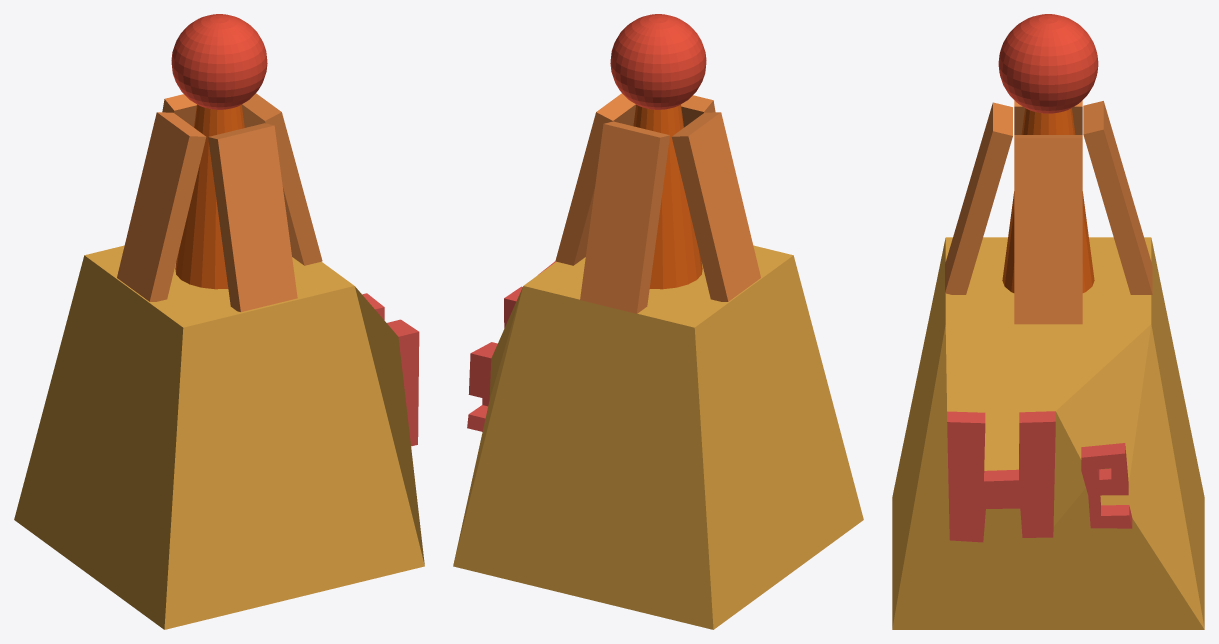
Rendered from HeliumGenerator.fbx.
3 renders of one model, left to right at view 1: azimuth 30°, elevation 25°; view 2: azimuth 150°, elevation 25°; view 3: azimuth 270°, elevation 25°, orthographic. The views are drawn at different scales.
Parts seen in each view (by area): view 1: Cube, Cube.003, Cube.005, Sphere, Cylinder, Cube.002, Cube.001, Cube.004; view 2: Cube, Cube.004, Cube.005, Sphere, Cylinder, Cube.002, Cube.001, Cube.003; view 3: Cube, Cube.001, Cube.002, Sphere, Cube.004, Cube.003, Cylinder, Cube.005.
Boxes of the visible parts, x1,y1,x2,y2 form: Cube: [14, 245, 424, 629]; Cube.003: [208, 123, 297, 311]; Cube.005: [117, 112, 206, 301]; Sphere: [171, 14, 267, 109]; Cylinder: [175, 104, 244, 289]; Cube.002: [242, 93, 322, 265]; Cube.001: [362, 293, 419, 446]; Cube.004: [162, 94, 196, 127]; Cube: [453, 245, 863, 629]; Cube.004: [580, 121, 669, 313]; Cube.005: [671, 112, 760, 301]; Sphere: [610, 14, 706, 109]; Cylinder: [633, 104, 702, 289]; Cube.002: [555, 93, 635, 265]; Cube.001: [467, 261, 555, 431]; Cube.003: [681, 95, 715, 127]; Cube: [892, 237, 1204, 629]; Cube.001: [947, 411, 1132, 542]; Cube.002: [1014, 135, 1082, 324]; Sphere: [998, 14, 1098, 113]; Cube.004: [1083, 101, 1152, 294]; Cube.003: [945, 102, 1012, 294]; Cylinder: [1002, 108, 1094, 292]; Cube.005: [1014, 100, 1082, 134].
Size of the model in its own units: 270 by 481 by 250.
